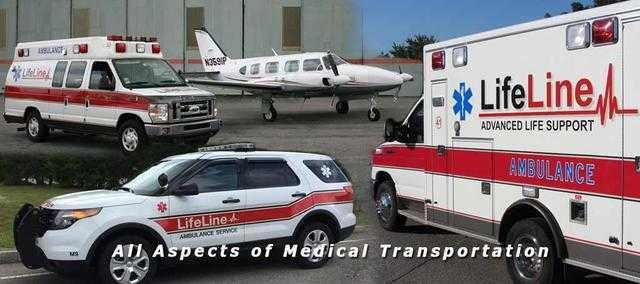car: (369, 0, 639, 283)
